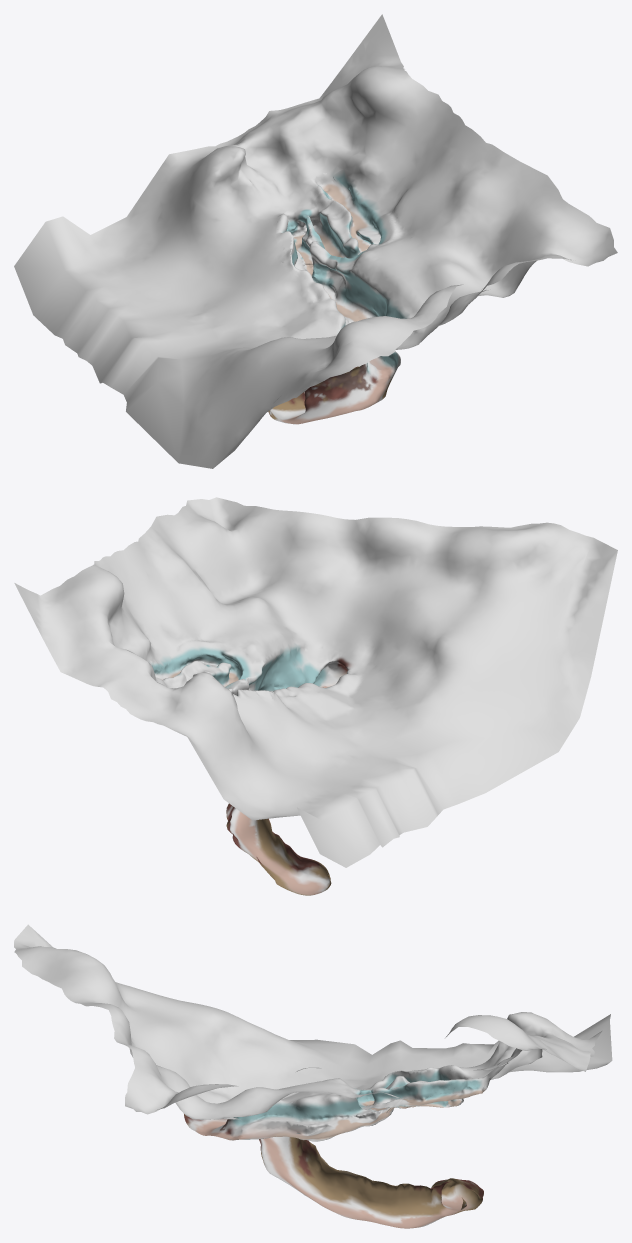
Rendered from level1.glb.
The picture shows the model from 3 angles, top to bottom: view 1: azimuth 30°, elevation 25°; view 2: azimuth 150°, elevation 25°; view 3: azimuth 270°, elevation 25°; orthographic projection. The views are drawn at different scales.
Parts seen in each view (by area): view 1: track-col; view 2: track-col; view 3: track-col.
Part boxes in pixels (x1=…): track-col: x1=14, y1=14, x2=617, y2=468; track-col: x1=14, y1=497, x2=617, y2=895; track-col: x1=14, y1=924, x2=612, y2=1228.
Size of the model in its own units: 759 by 539 by 969.
